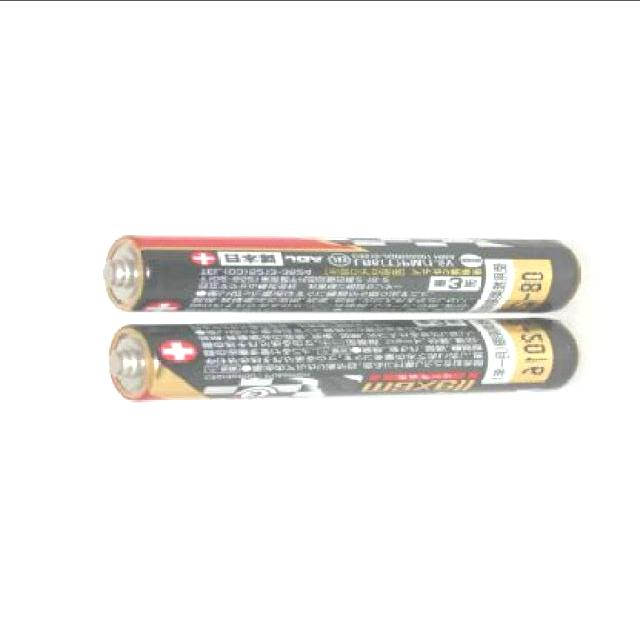AAA: (97, 300, 585, 416), (85, 228, 598, 317)
